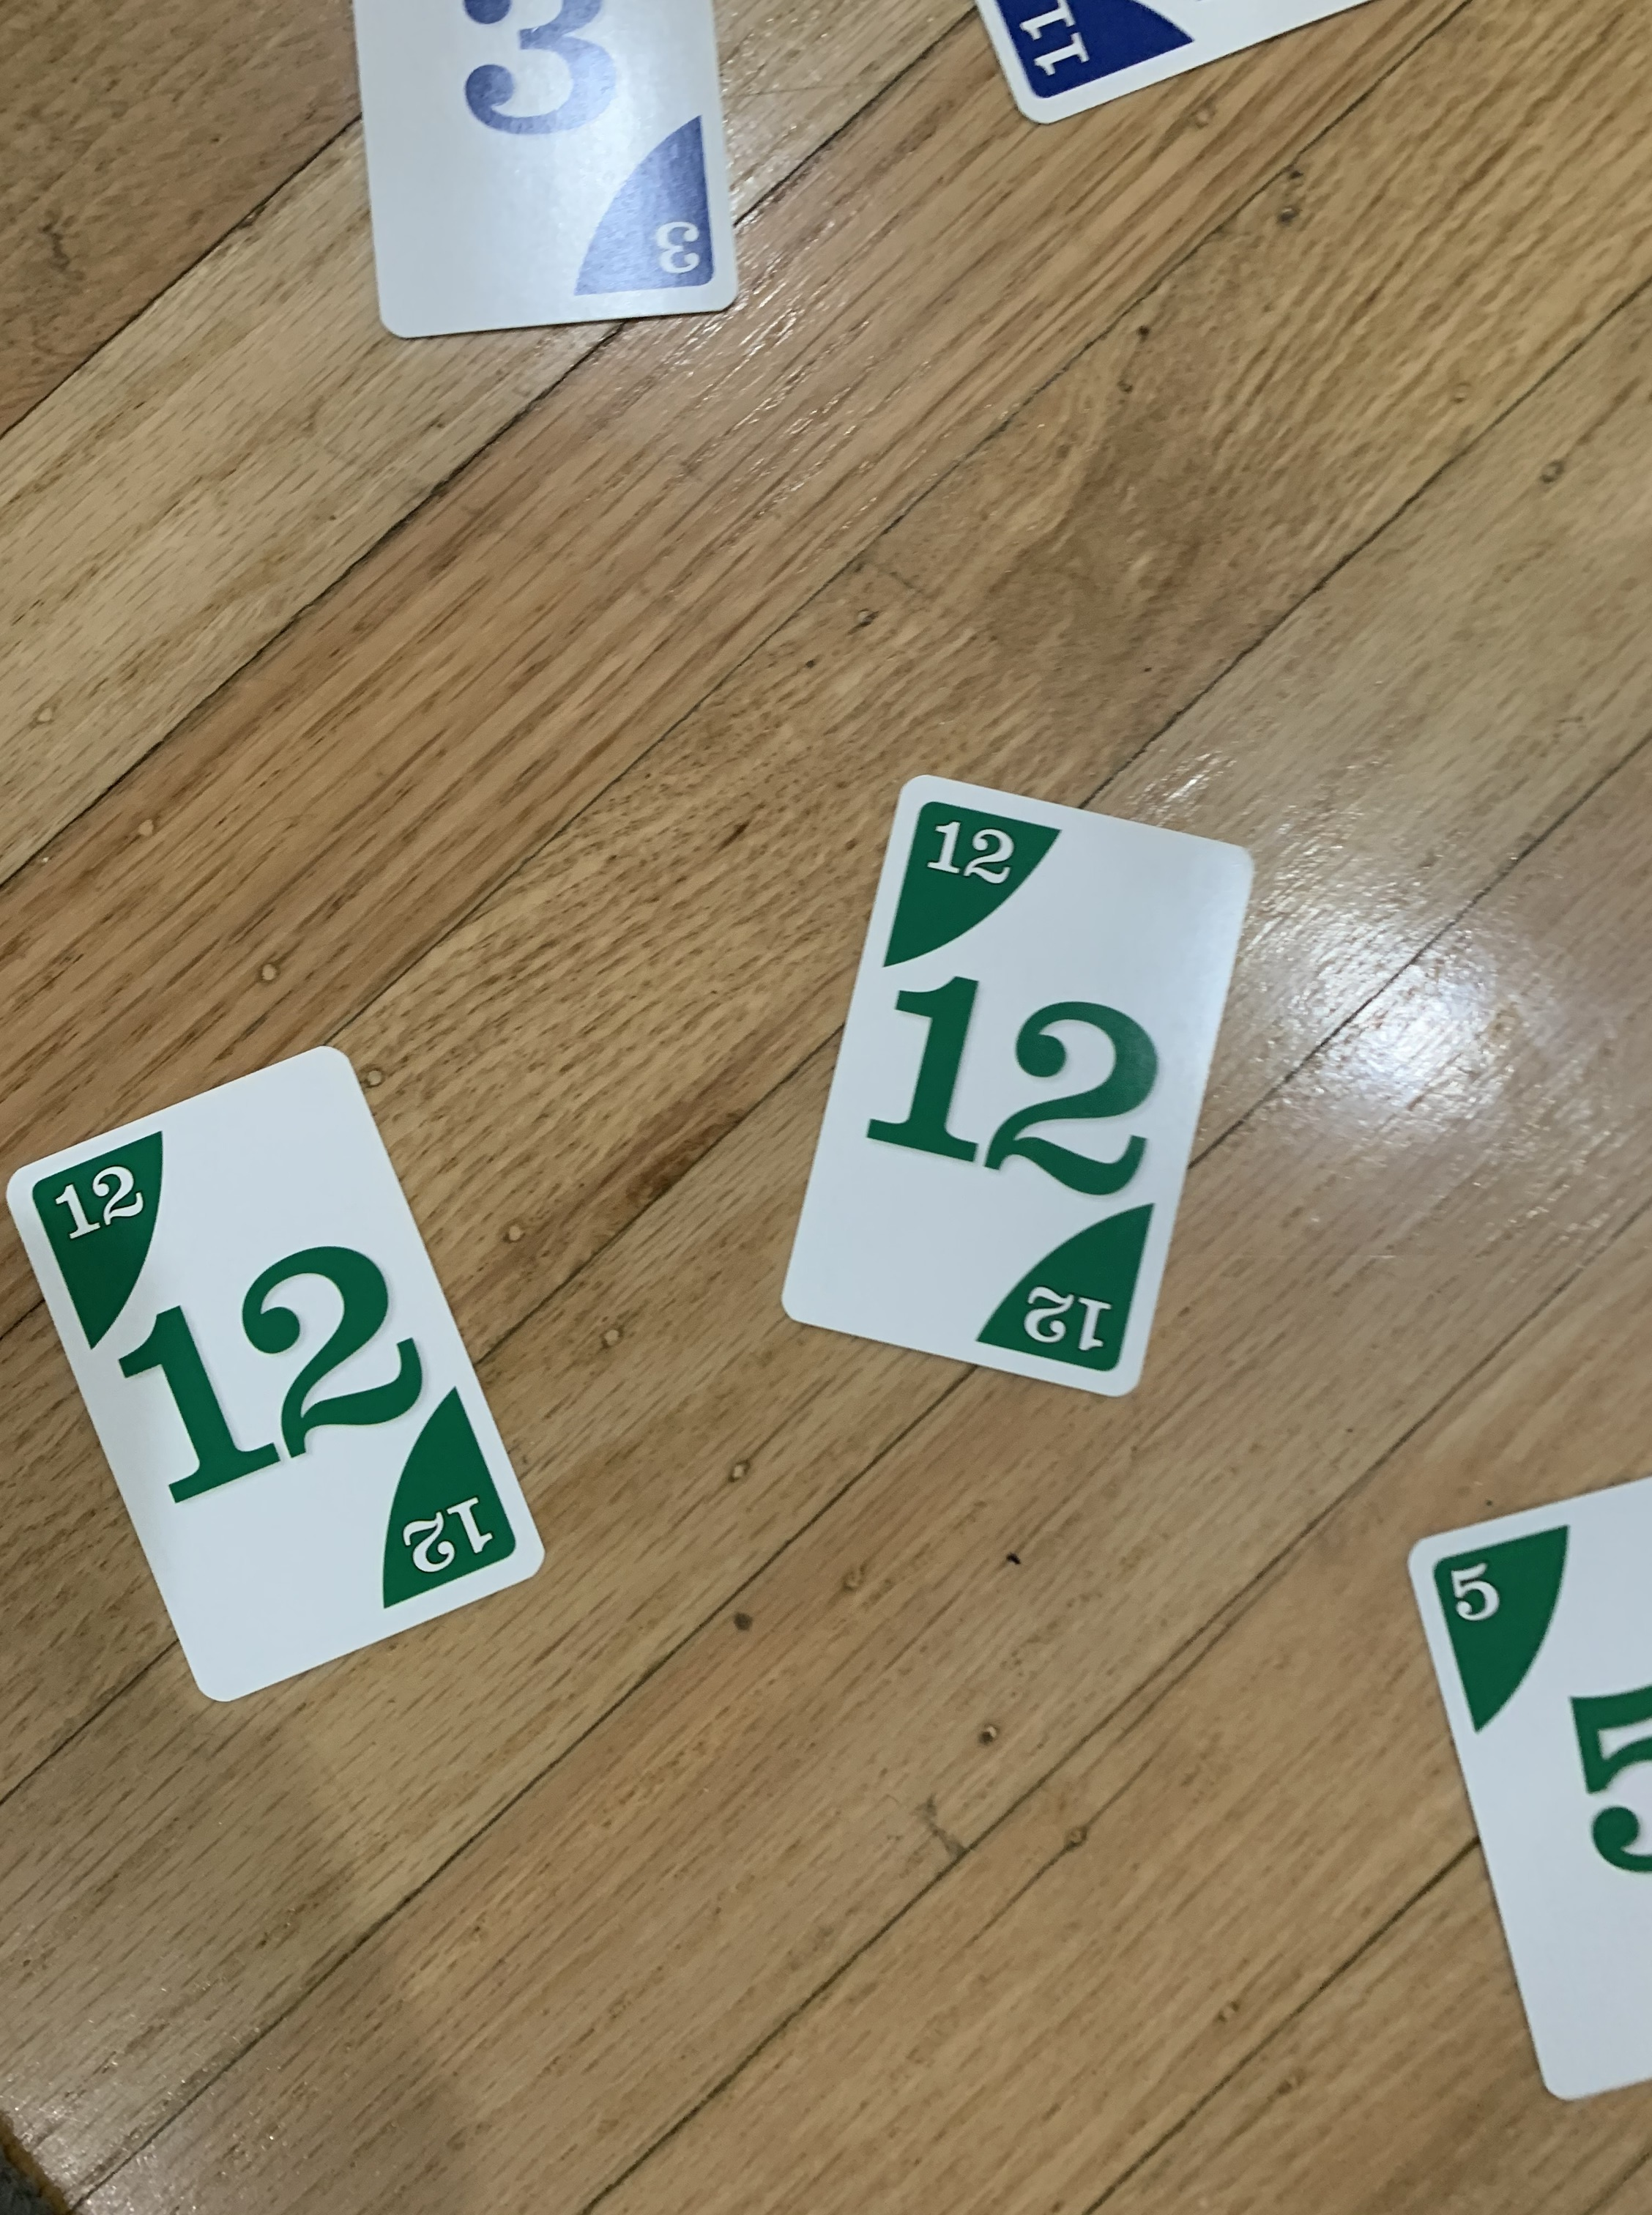three: (338, 0, 739, 342)
twelve: (0, 1045, 554, 1708), (783, 772, 1258, 1413)
